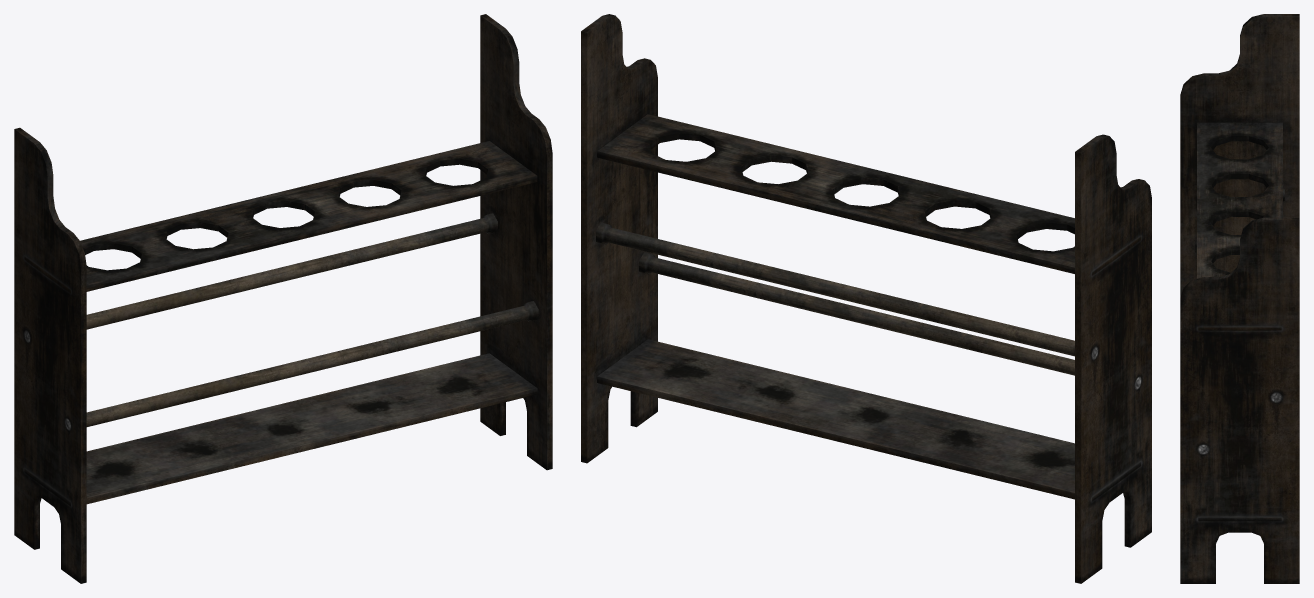
File: test_tube_rack.glb
3 renders of one model, left to right at view 1: azimuth 30°, elevation 25°; view 2: azimuth 150°, elevation 25°; view 3: azimuth 270°, elevation 25°, orthographic. The views are drawn at different scales.
Parts seen in each view (by area): view 1: side_lp, shelf_lp, rod_lp; view 2: side_lp, shelf_lp, rod_lp; view 3: side_lp, shelf_lp.
Boxes of the visible parts, <box> form: side_lp: <box>14,14,552,583</box>; shelf_lp: <box>80,141,537,504</box>; rod_lp: <box>86,213,538,426</box>; side_lp: <box>581,14,1151,583</box>; shelf_lp: <box>597,114,1074,499</box>; rod_lp: <box>596,222,1074,375</box>; side_lp: <box>1180,14,1299,583</box>; shelf_lp: <box>1197,122,1282,278</box>.
Bounding box in the file's own units: 2.04 × 1.68 × 0.5.
1 material, 1 textured.
